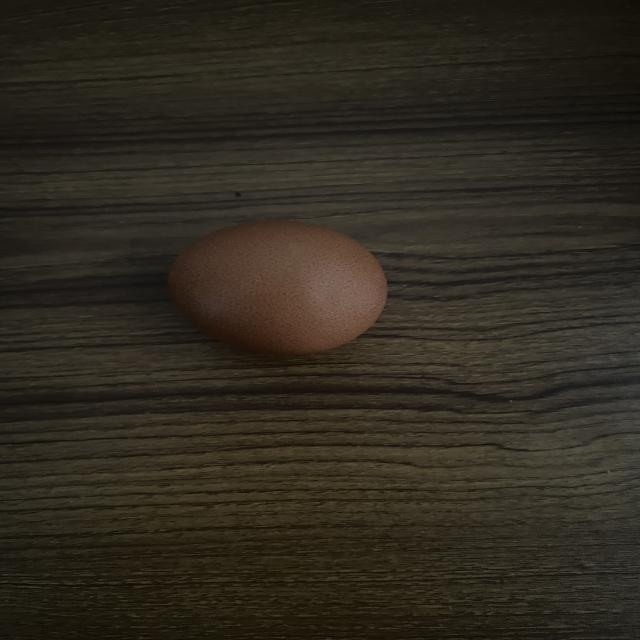egg: (153, 216, 396, 358)
